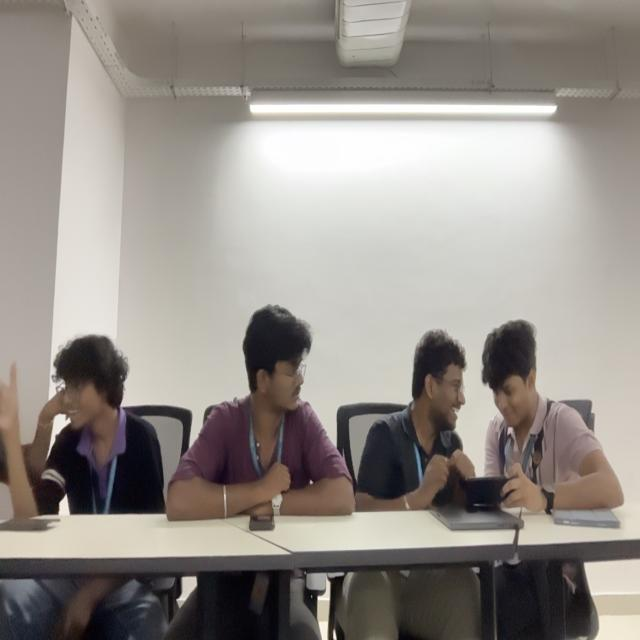Isolated: (53, 338, 165, 517)
socializing: (176, 303, 624, 512)
